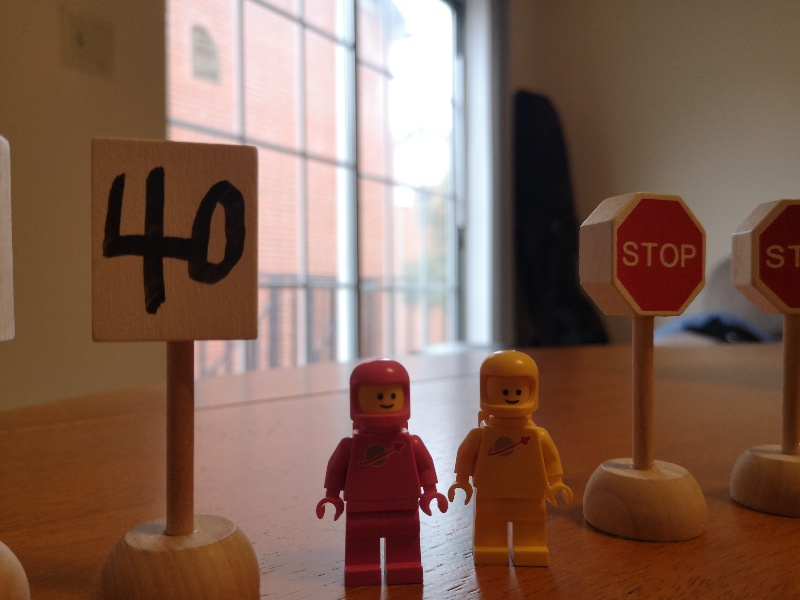Person: (317, 357, 450, 597), (451, 348, 574, 569)
Speed Limit 40: (89, 137, 259, 342)
Stop Sign: (579, 194, 710, 318), (731, 198, 800, 313)
